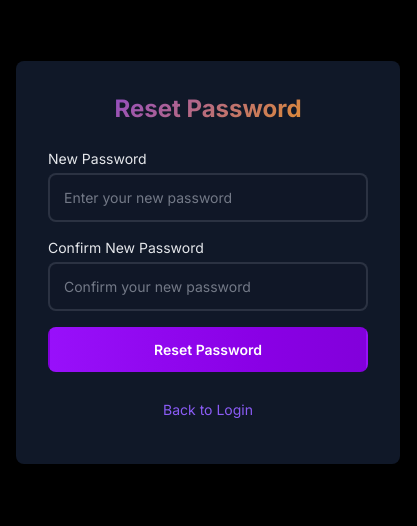
Scenario: ResetPasswordClient › handles successful password reset
In the password field labelled "New Password": point(208, 197) [48, 172, 368, 222], type "newpassword123"
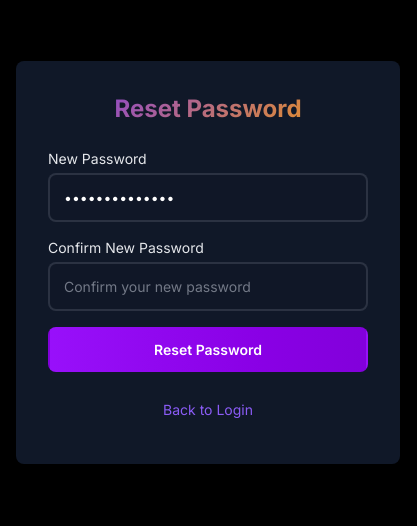
In the password field labelled "Confirm New Password": point(208, 286) [48, 262, 368, 310], type "newpassword123"
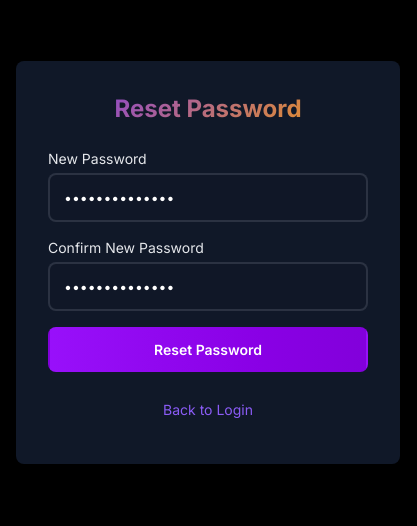
Click the button "Reset Password": point(208, 349) [48, 326, 368, 372]
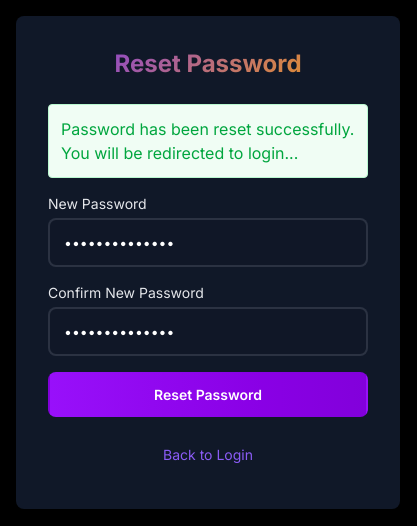
Check: the text "Password has been reset successfully. You will be redirected to login..." is shown, box [48, 104, 368, 178]
